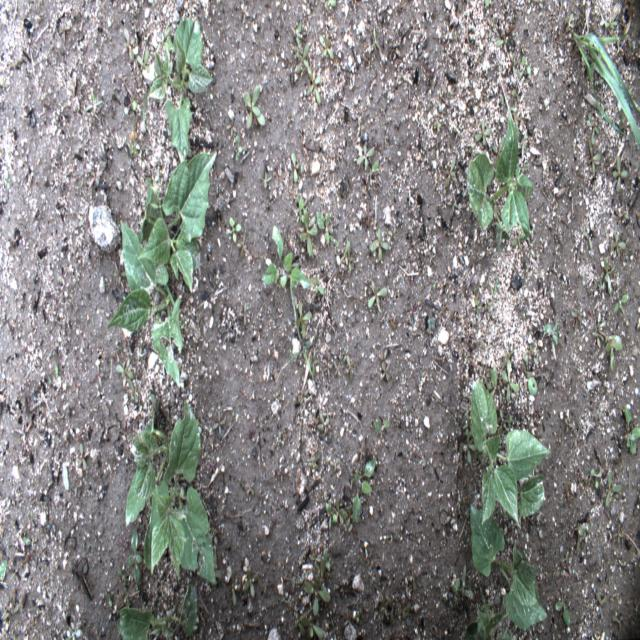crop: (103, 149, 220, 395), (124, 403, 217, 589), (469, 373, 555, 526), (142, 8, 214, 173), (462, 115, 537, 232), (116, 593, 206, 639), (472, 602, 523, 638)
weed: (467, 494, 548, 626), (570, 20, 638, 142), (259, 220, 315, 294), (293, 20, 321, 109), (297, 556, 333, 621), (348, 458, 379, 530), (242, 78, 269, 132), (298, 201, 321, 261), (599, 330, 626, 380), (497, 353, 521, 407), (538, 310, 563, 354), (606, 150, 630, 195), (120, 29, 145, 71), (365, 276, 394, 312), (123, 530, 140, 589), (367, 232, 391, 268), (604, 469, 626, 506), (224, 209, 243, 251), (624, 402, 635, 457), (356, 142, 374, 172), (283, 156, 301, 186)
